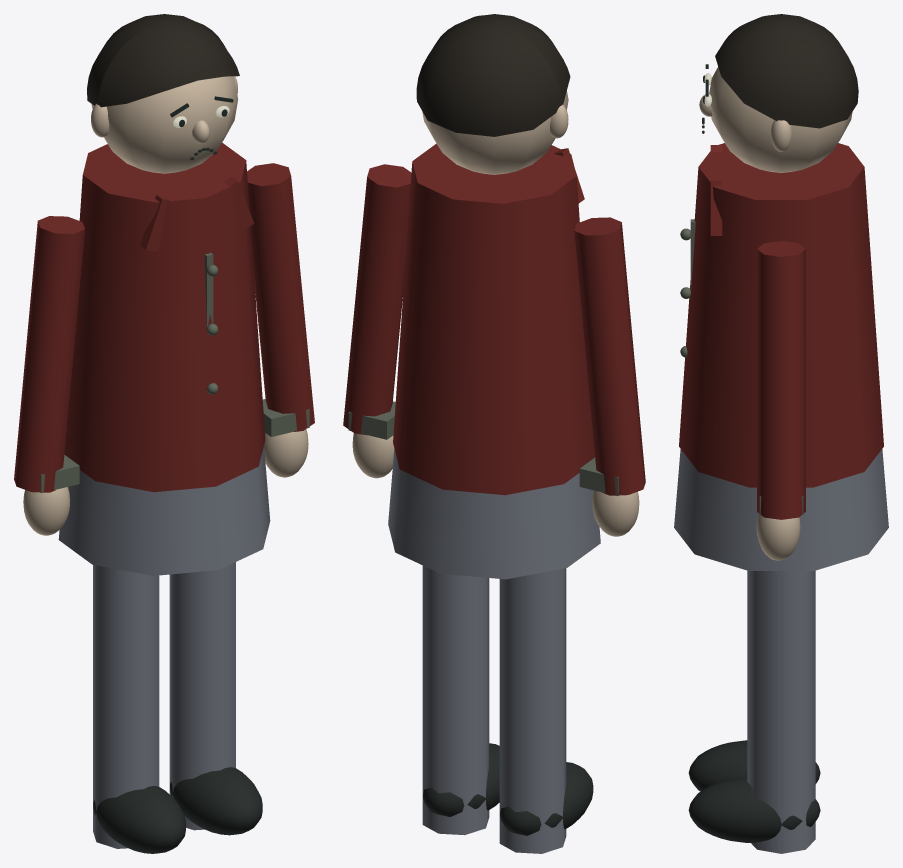
File: npc_Raka.glb
3 renders of one model, left to right at view 1: azimuth 30°, elevation 25°; view 2: azimuth 150°, elevation 25°; view 3: azimuth 270°, elevation 25°, orthographic.
Parts seen in each view (by area): view 1: Source_993, Source_994, Source_995, Source_997, Source_996, Source_998, Source_1001, Source_1018, Source_1000, Source_1017, Source_1015, Source_1016; view 2: Source_993, Source_995, Source_994, Source_997, Source_1001, Source_996, Source_998, Source_1018, Source_1000, Source_1017, Source_1015; view 3: Source_993, Source_997, Source_994, Source_998, Source_1001, Source_1018, Source_1000, Source_1017, Source_1015, Source_1016, Source_1003.
Boxes of the visible parts, <box> form: Source_993: <box>64,142,265,492</box>; Source_994: <box>58,446,270,575</box>; Source_995: <box>93,564,159,848</box>; Source_997: <box>169,562,235,830</box>; Source_996: <box>14,216,84,492</box>; Source_998: <box>247,163,314,431</box>; Source_1001: <box>87,14,239,107</box>; Source_1018: <box>93,767,262,853</box>; Source_1000: <box>91,76,238,173</box>; Source_1017: <box>23,429,308,535</box>; Source_1015: <box>40,252,309,493</box>; Source_1016: <box>140,177,254,251</box>; Source_993: <box>393,143,594,495</box>; Source_995: <box>499,568,566,853</box>; Source_994: <box>388,449,600,579</box>; Source_997: <box>422,565,489,835</box>; Source_1001: <box>416,14,570,136</box>; Source_996: <box>574,217,645,495</box>; Source_998: <box>343,164,411,435</box>; Source_1018: <box>423,743,593,835</box>; Source_1000: <box>422,91,568,174</box>; Source_1017: <box>352,433,639,536</box>; Source_1015: <box>348,401,618,495</box>; Source_993: <box>679,143,883,487</box>; Source_997: <box>747,570,815,853</box>; Source_994: <box>674,449,888,570</box>; Source_998: <box>757,241,805,519</box>; Source_1001: <box>715,14,858,128</box>; Source_1018: <box>688,740,820,843</box>; Source_1000: <box>709,67,852,172</box>; Source_1017: <box>756,513,800,560</box>; Source_1015: <box>680,219,803,514</box>; Source_1016: <box>710,145,722,235</box>; Source_1003: <box>770,120,792,151</box>.
Size of the model in its own units: 0.7371 by 1.91 by 0.4664.
